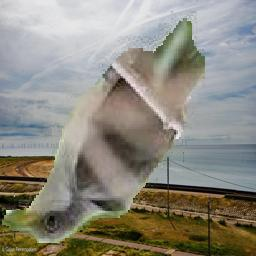Cuckoo: (3, 11, 206, 243)
